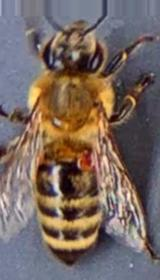varroa_mite: (64, 144, 110, 179)
